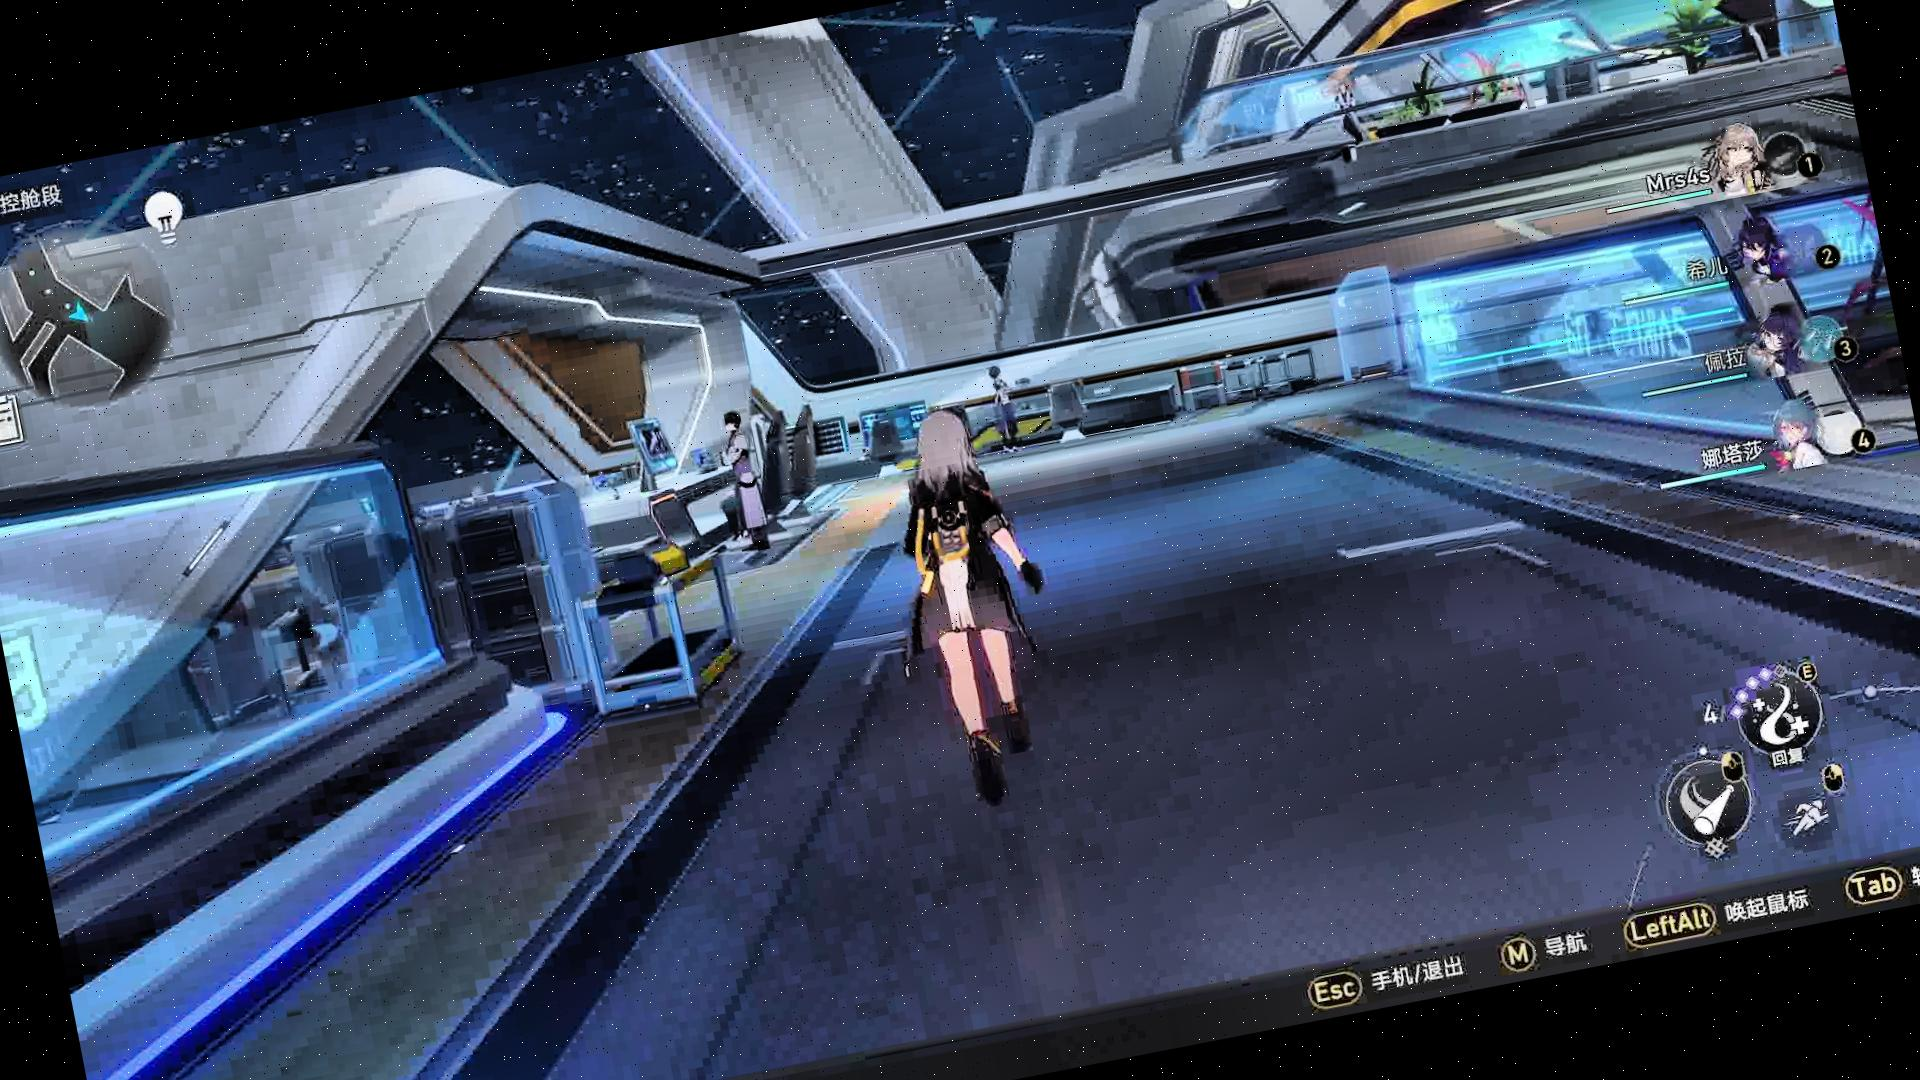Self: (855, 393, 1091, 819)
TeamMate: (713, 406, 781, 563), (977, 352, 1031, 465)
